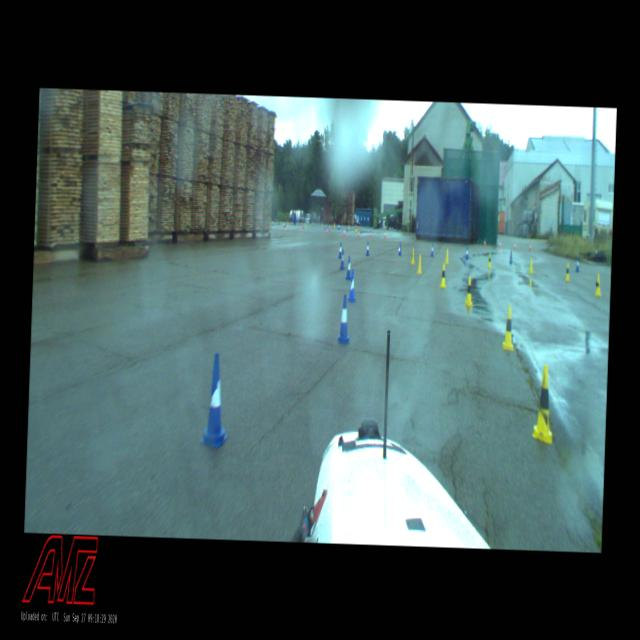blue_cone: (202, 353, 230, 446), (337, 295, 350, 342), (346, 268, 356, 302), (345, 256, 351, 278), (339, 250, 345, 270), (338, 242, 342, 258), (575, 256, 579, 272), (508, 248, 512, 264), (365, 240, 369, 255), (398, 242, 402, 255), (465, 246, 469, 258), (430, 243, 433, 256), (337, 222, 339, 230)
orange_cone: (356, 228, 359, 238), (498, 240, 501, 249), (483, 238, 486, 247), (342, 228, 345, 236), (384, 229, 386, 238), (325, 226, 327, 235), (528, 242, 530, 250), (369, 230, 371, 238), (514, 242, 516, 249), (328, 224, 330, 231)
yellow_cone: (532, 363, 554, 442), (501, 306, 515, 350), (464, 275, 472, 305), (439, 262, 446, 288), (594, 273, 602, 295), (416, 254, 422, 274), (565, 262, 570, 280), (410, 248, 415, 264), (528, 257, 533, 273), (444, 248, 449, 264), (487, 252, 491, 268), (356, 223, 358, 230)
